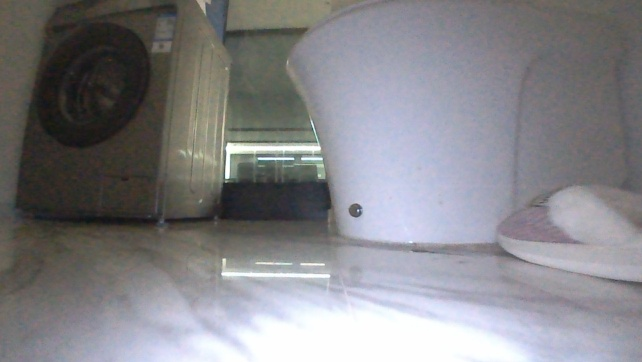shoe_part: (490, 178, 641, 287)
toilet: (280, 0, 642, 255)
washing_machine: (11, 1, 237, 231)
